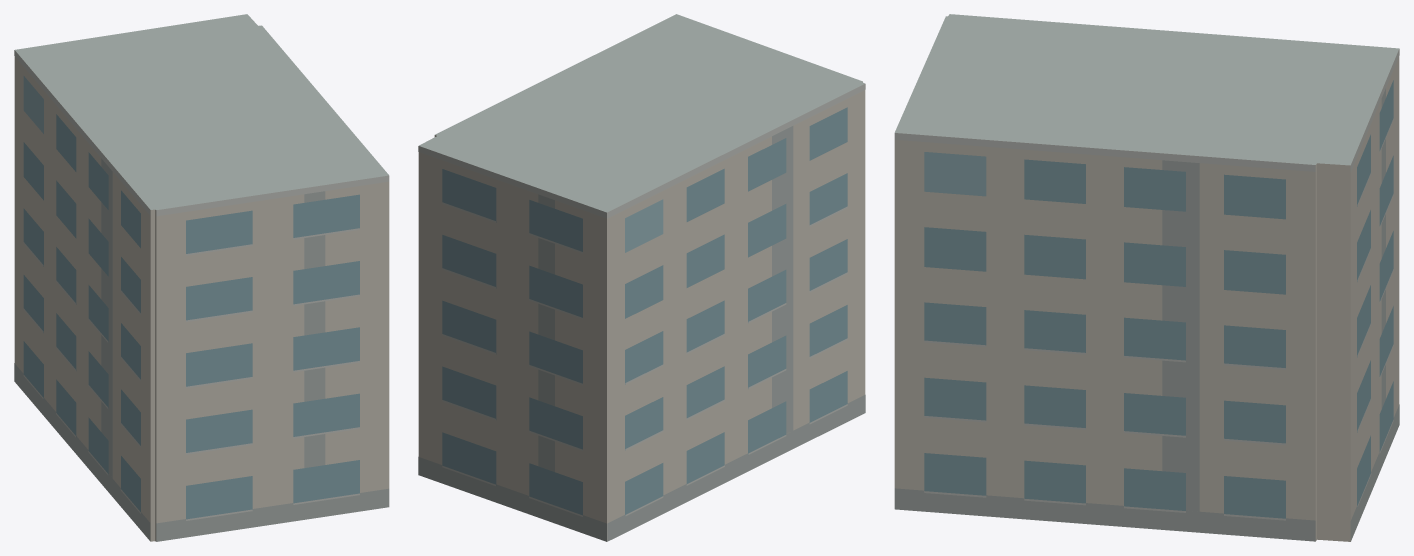
The model's file is survey-upis-32885093.glb.
The picture shows the model from 3 angles, left to right: view 1: azimuth 30°, elevation 25°; view 2: azimuth 150°, elevation 25°; view 3: azimuth 270°, elevation 25°; orthographic projection. The views are drawn at different scales.
Parts seen in each view (by area): view 1: survey-upis-32885093.tmp; view 2: survey-upis-32885093.tmp; view 3: survey-upis-32885093.tmp.
Part boxes in pixels (box(x1,y1,x2,y2)): survey-upis-32885093.tmp: box(14, 14, 389, 541); survey-upis-32885093.tmp: box(418, 14, 865, 541); survey-upis-32885093.tmp: box(894, 14, 1399, 541).
Size of the model in its own units: 11.39 by 13.2 by 16.06.
